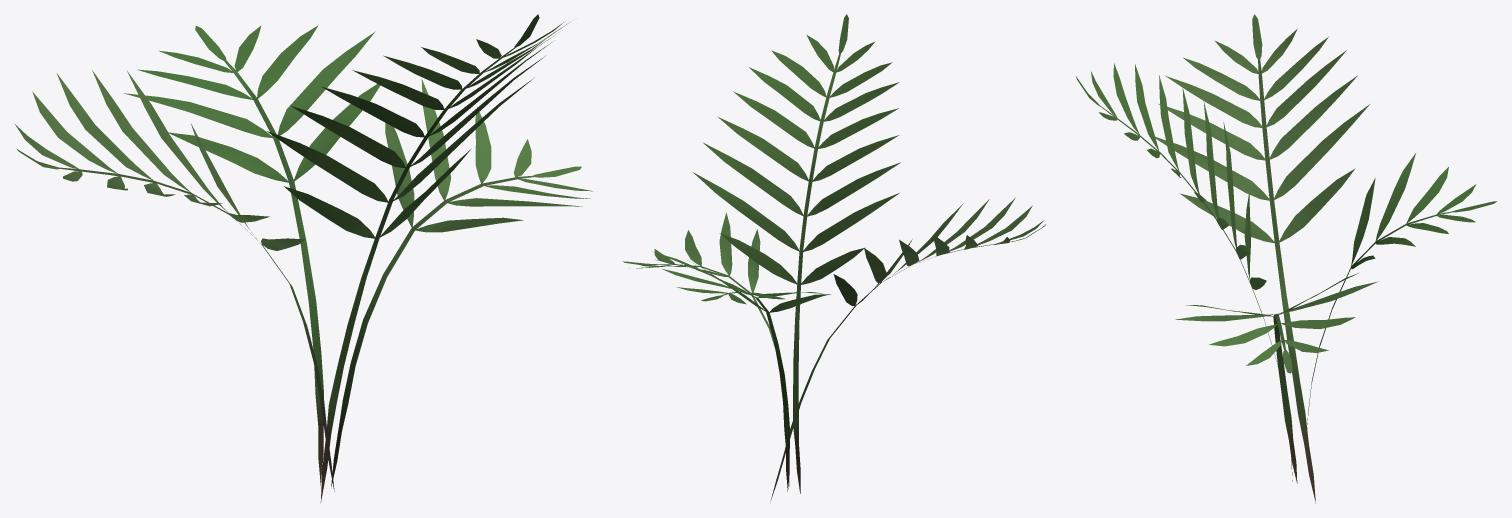
Rendered from plants-trees-palms-parlor-palm_v3.fbx.
3 views of the same model, side by side, from view 1: azimuth 30°, elevation 25°; view 2: azimuth 150°, elevation 25°; view 3: azimuth 270°, elevation 25° (orthographic). The views are drawn at different scales.
Parts seen in each view (by area): view 1: Parlor Palm_v3; view 2: Parlor Palm_v3; view 3: Parlor Palm_v3.
Boxes of the visible parts, x1=… form: Parlor Palm_v3: x1=15, y1=14, x2=592, y2=502; Parlor Palm_v3: x1=622, y1=14, x2=1045, y2=501; Parlor Palm_v3: x1=1076, y1=14, x2=1496, y2=503.
Size of the model in its own units: 1 by 0.9428 by 0.8088.
